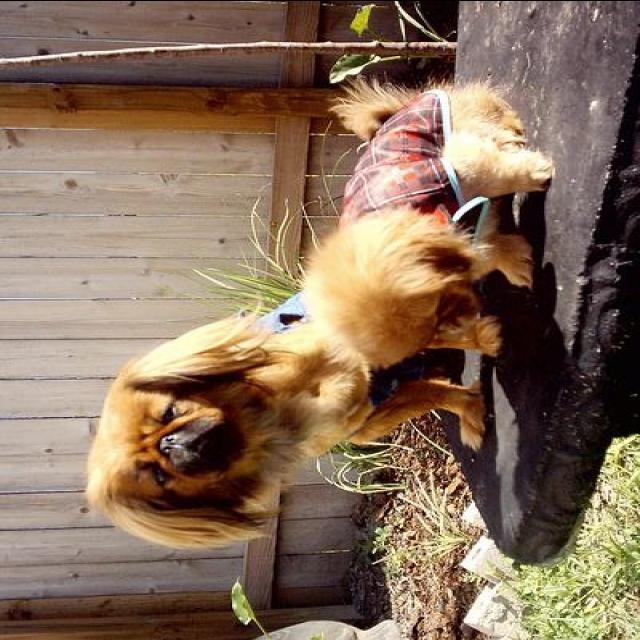pekinese: (83, 286, 506, 552), (302, 74, 556, 364)
